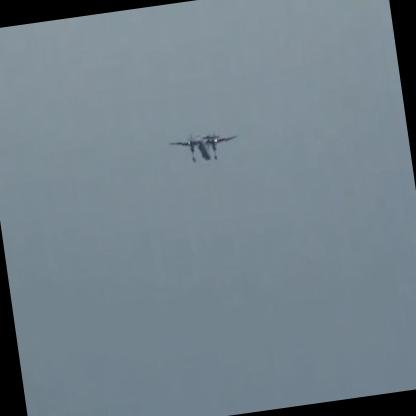plane: (167, 127, 240, 166)
